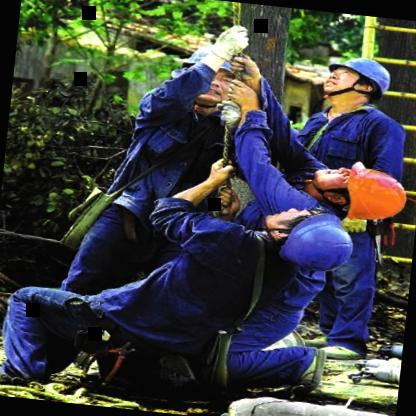helmet: (246, 202, 360, 274), (295, 159, 416, 223), (162, 34, 263, 110), (314, 50, 399, 109)
